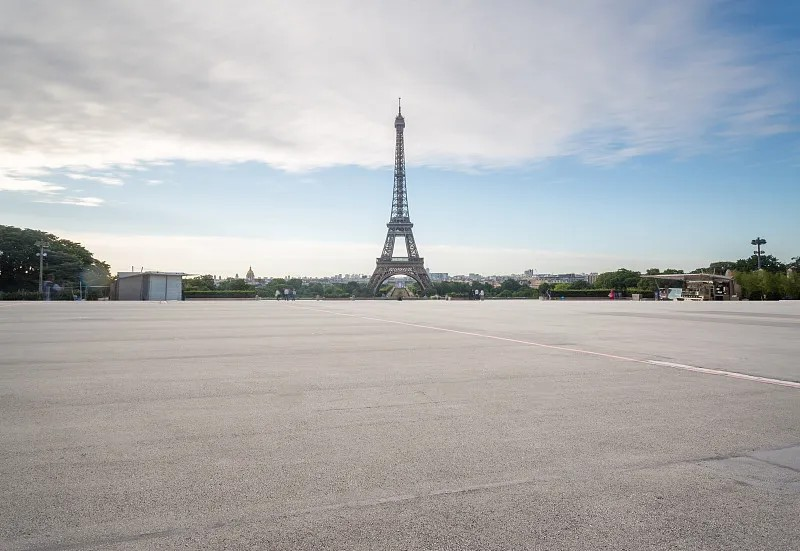Eiffel: (363, 97, 434, 298)
